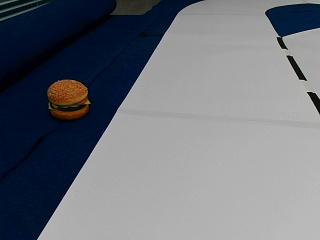burger: (46, 77, 90, 119)
